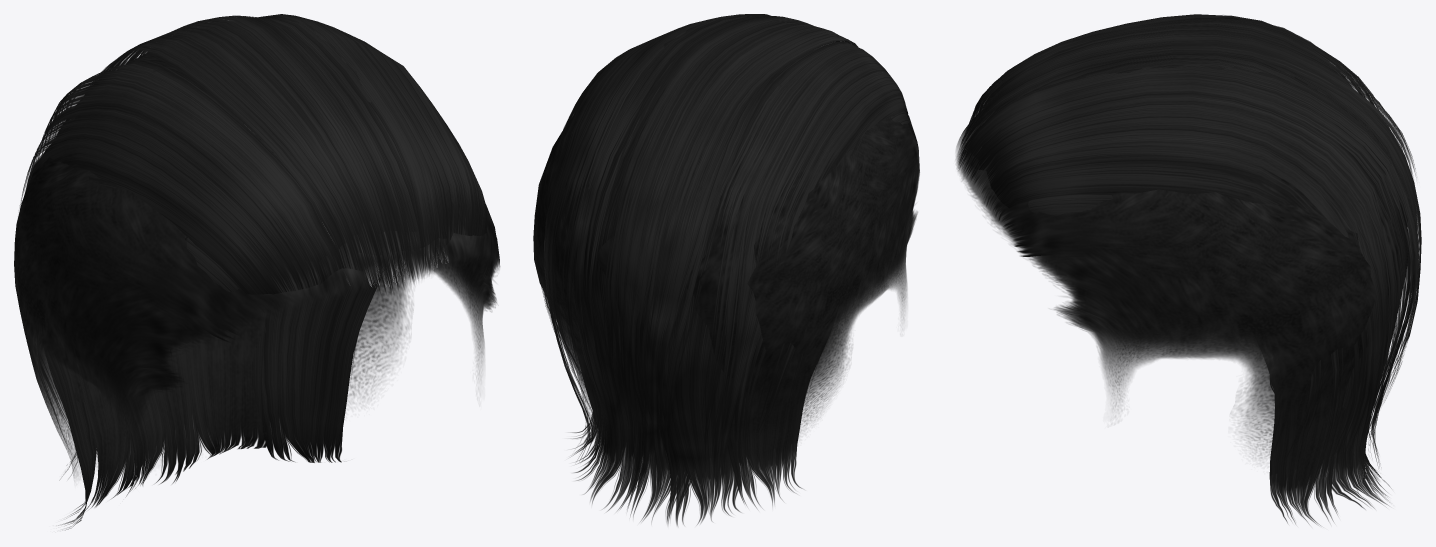
File: SlickBack.glb
The picture shows the model from 3 angles, left to right: view 1: azimuth 30°, elevation 25°; view 2: azimuth 150°, elevation 25°; view 3: azimuth 270°, elevation 25°; orthographic projection. The views are drawn at different scales.
Parts seen in each view (by area): view 1: SlickBack, SCALP LEBAR; view 2: SlickBack, SCALP LEBAR; view 3: SlickBack, SCALP LEBAR.
Part boxes in pixels (x1,y1,x2,y2): SlickBack: [19, 14, 491, 530]; SCALP LEBAR: [14, 127, 499, 478]; SlickBack: [541, 14, 908, 525]; SCALP LEBAR: [533, 98, 919, 468]; SlickBack: [958, 14, 1421, 525]; SCALP LEBAR: [956, 60, 1407, 477].
Size of the model in its own units: 0.1946 by 0.2592 by 0.2357.
2 materials, 2 textured.
